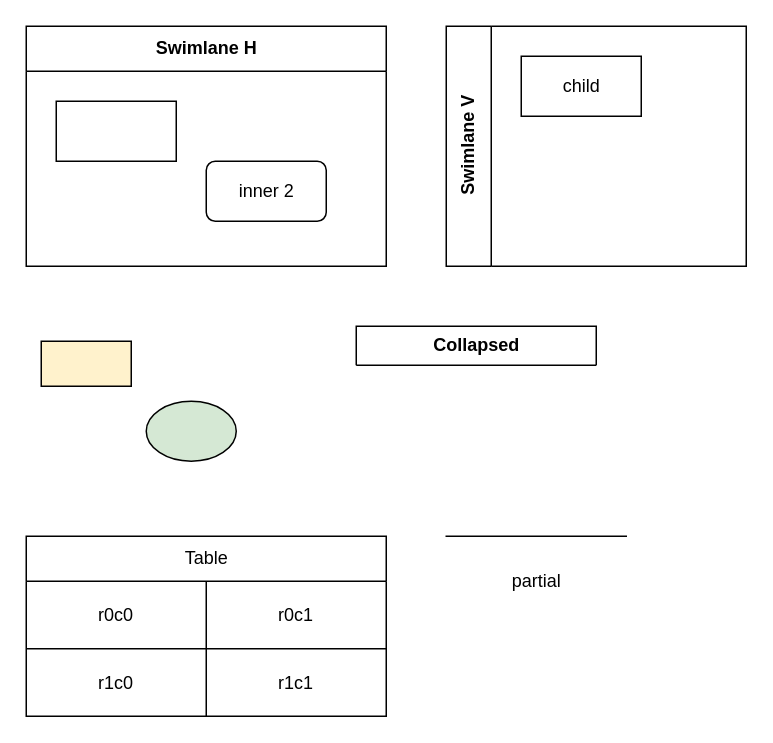
The diagram is 773 pixels wide and 743 high, and some of its shapes have lost their labels. Here are the shapes that lost their labels. From the top down, the centre of each, then its label:
point 115,130: inner
point 85,363: g1
point 190,430: g2
